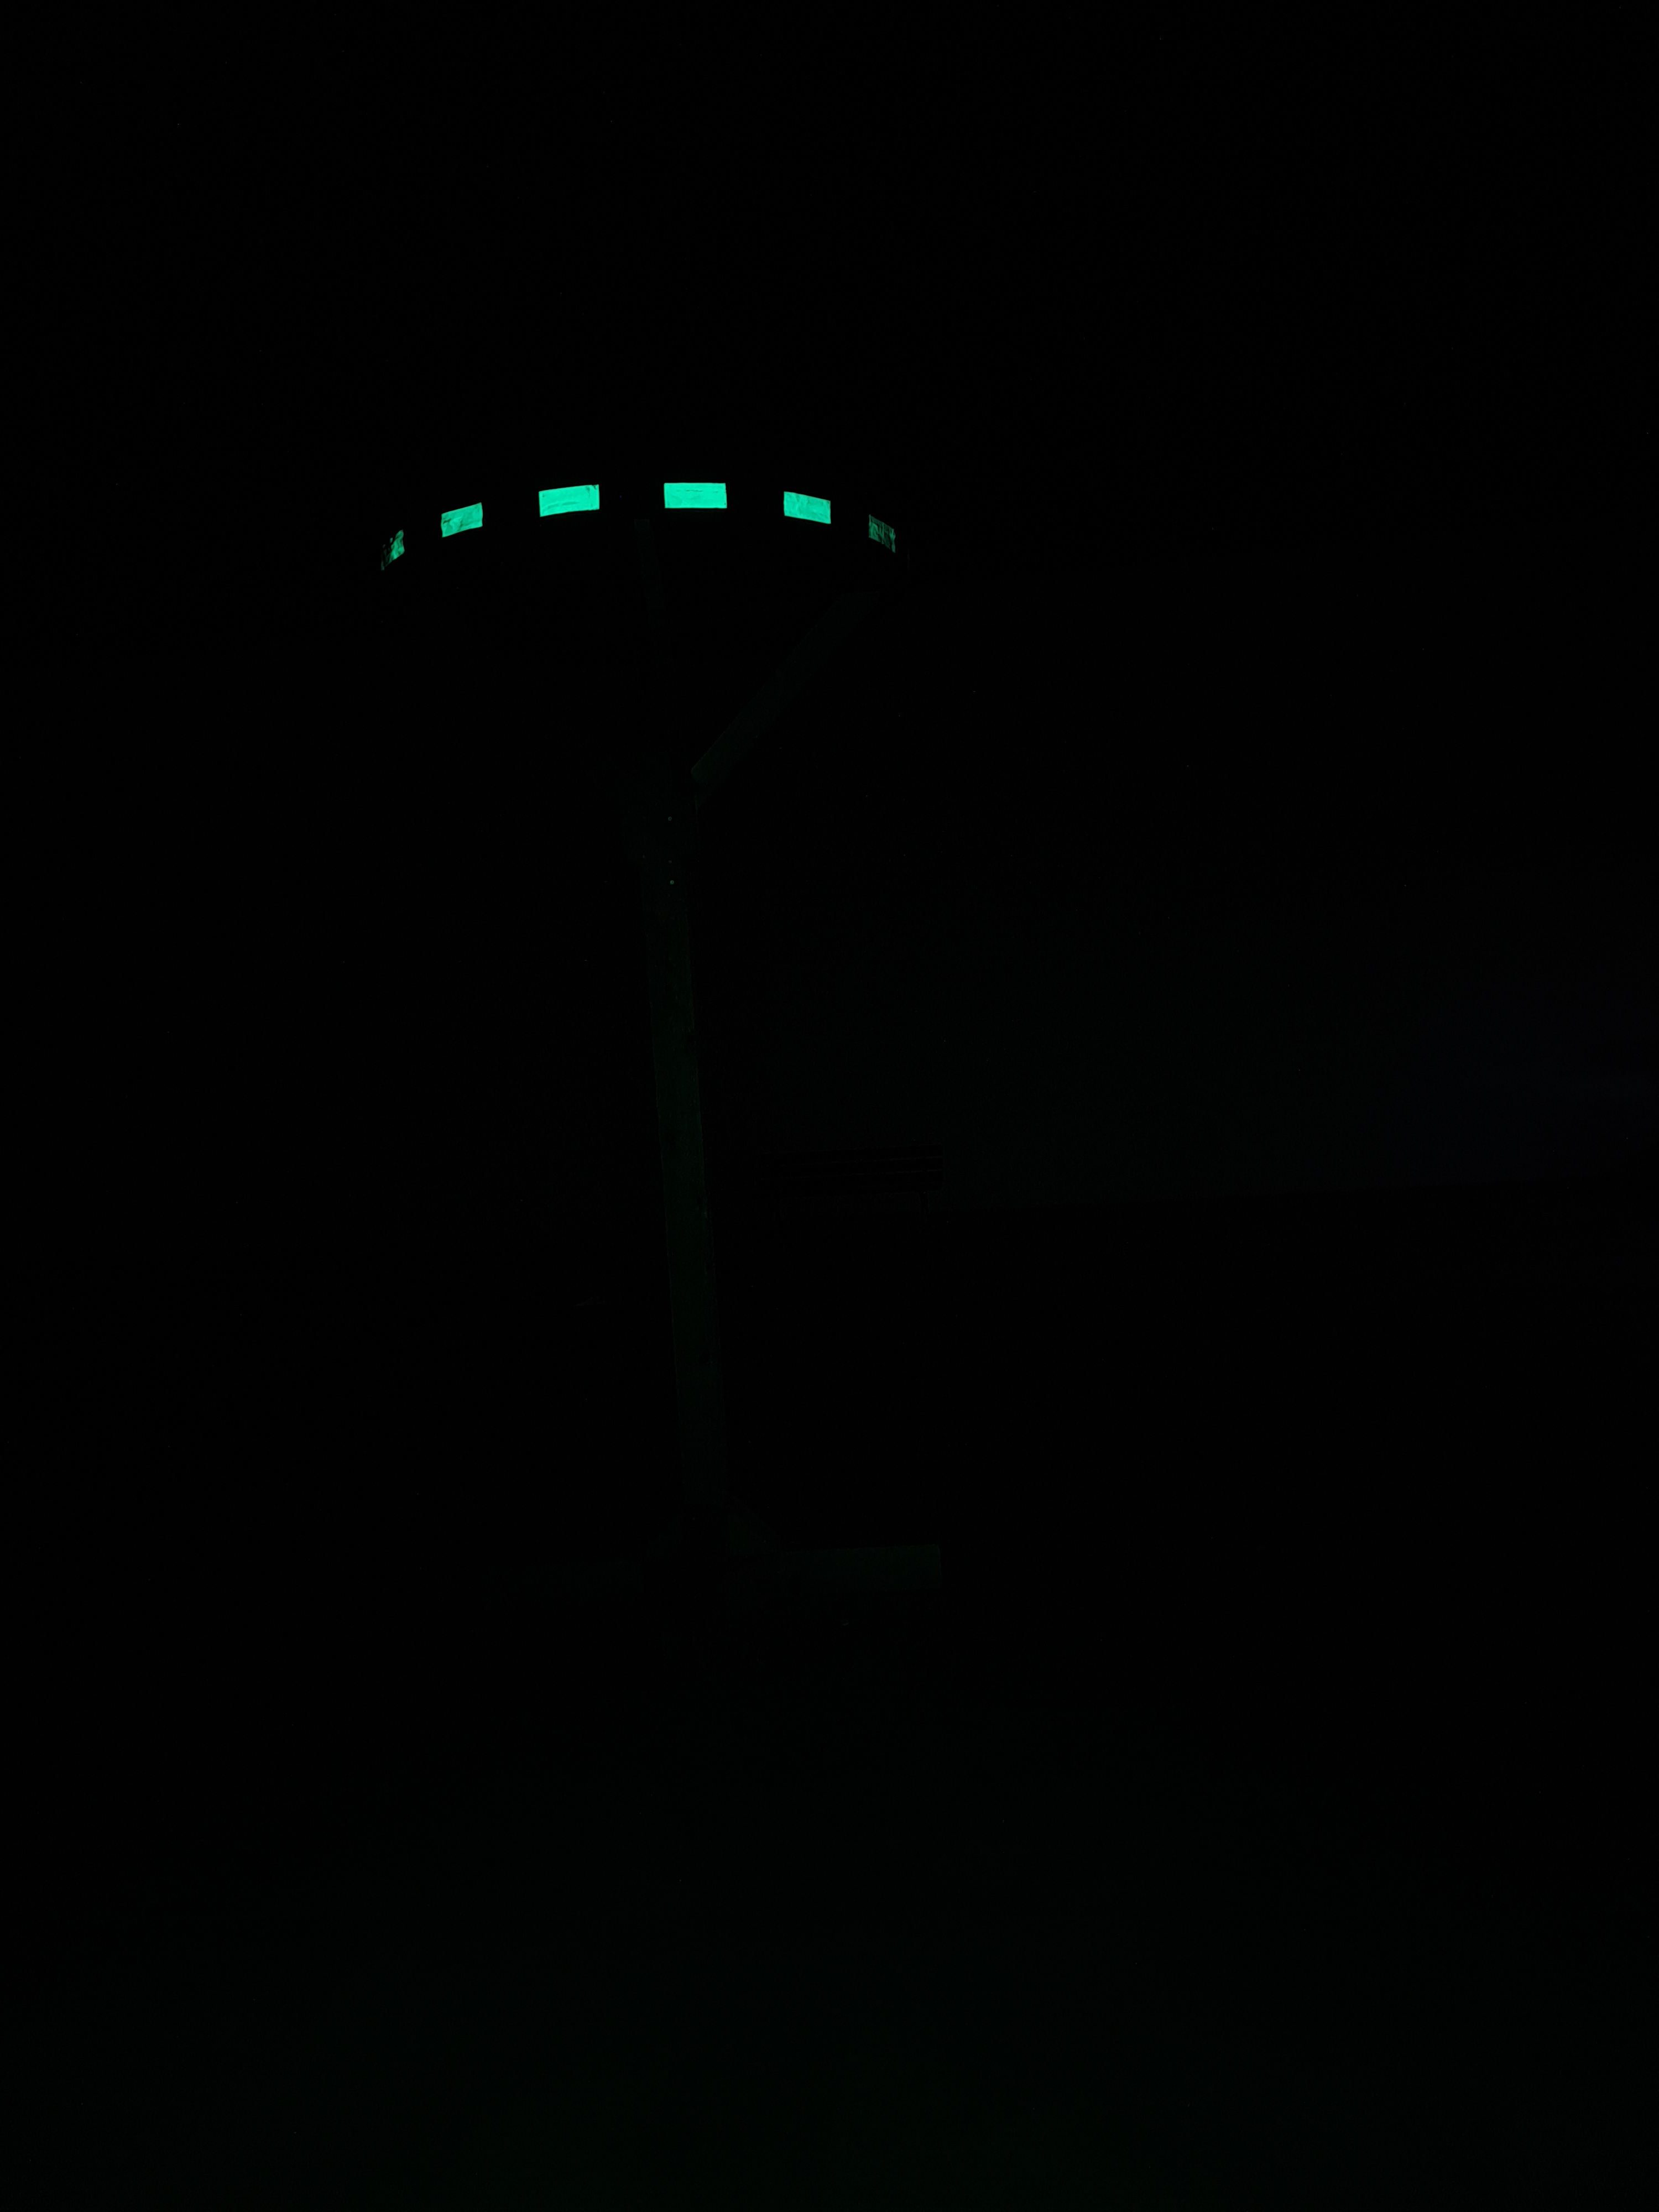hoop: (375, 474, 901, 571)
